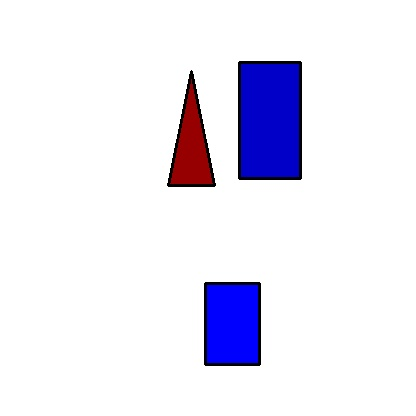rectangle: (239, 62, 300, 178), (205, 283, 259, 364)
triangle: (168, 71, 214, 185)
